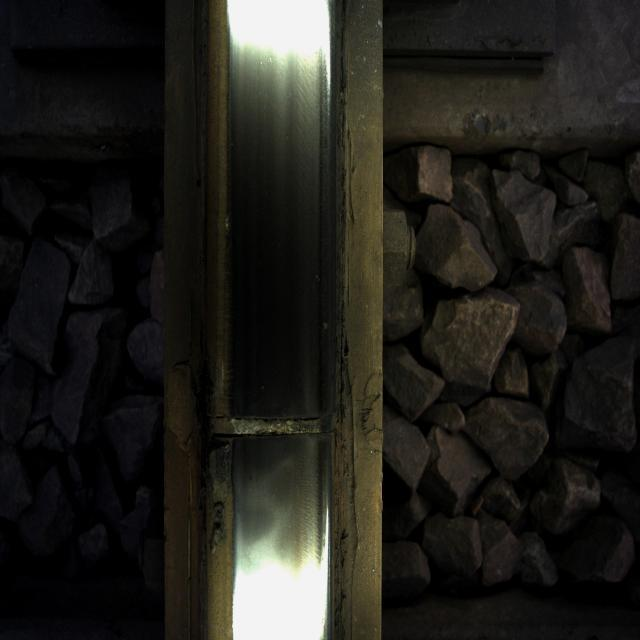spalling: (204, 379, 362, 480)
